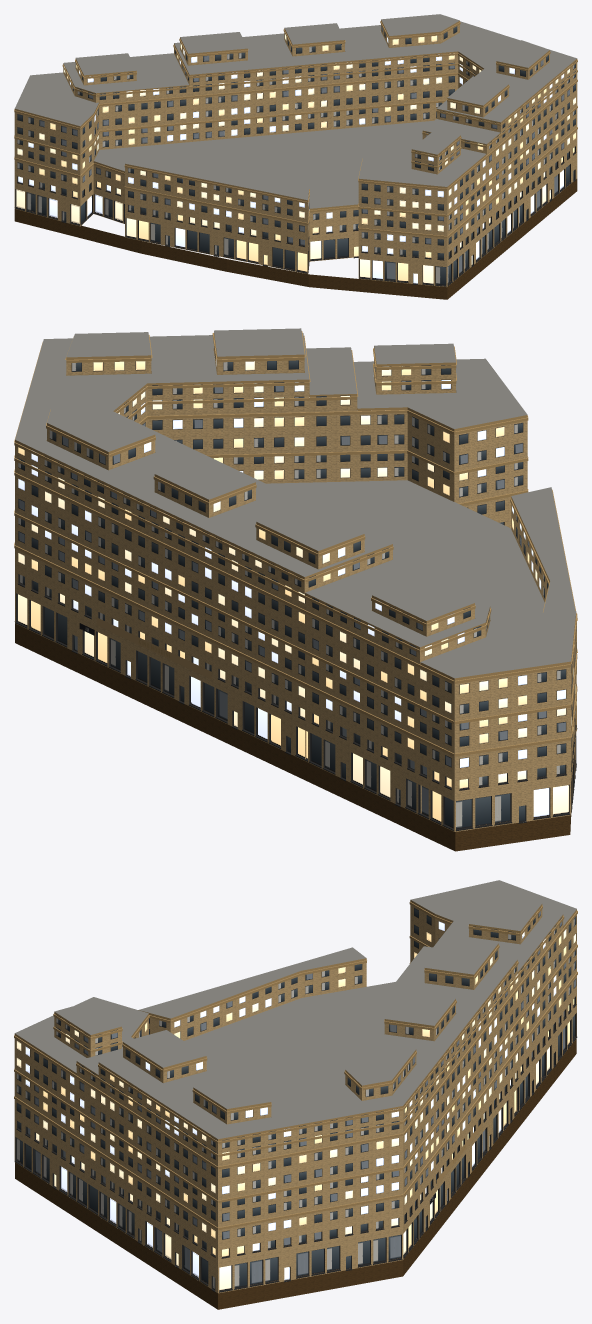
File: houdini.glb
3 views of the same model, one above another, from view 1: azimuth 30°, elevation 25°; view 2: azimuth 150°, elevation 25°; view 3: azimuth 270°, elevation 25° (orthographic). The views are drawn at different scales.
Parts seen in each view (by area): view 1: houdini; view 2: houdini; view 3: houdini.
Boxes of the visible parts, x1,y1,x2,y2 form: houdini: (14, 14, 577, 299); houdini: (14, 328, 577, 851); houdini: (14, 880, 577, 1309).
Size of the model in its own units: 112 by 33.93 by 93.33.
Materials: 3 (3 with a texture image).
